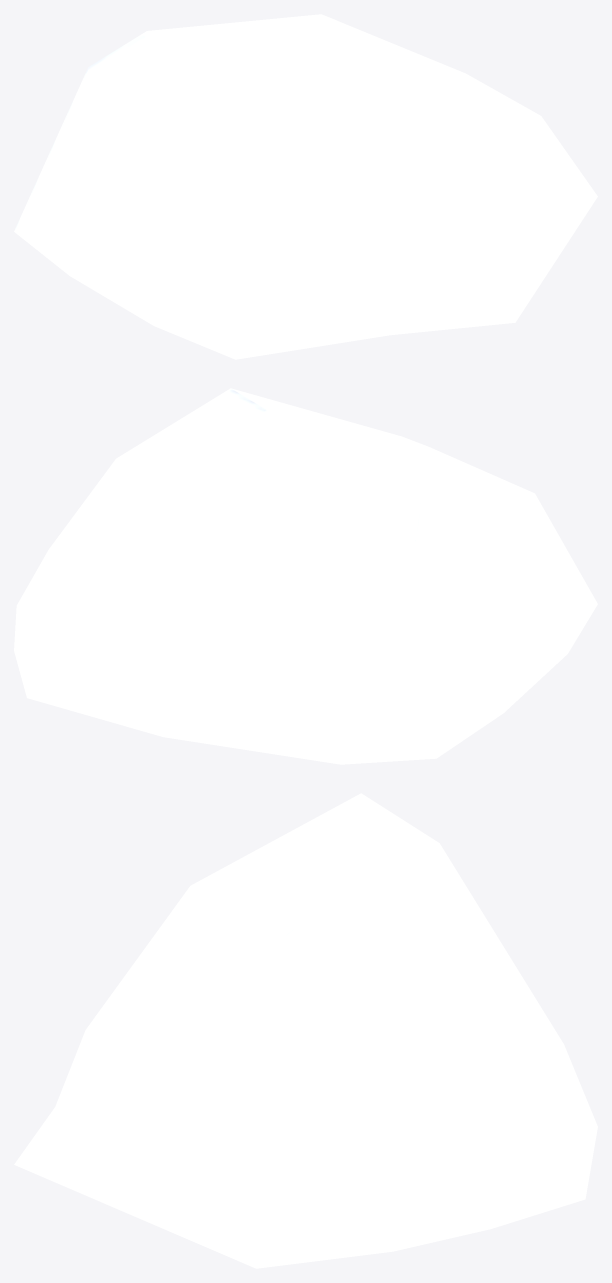
Rendered from LowPolyRock_5.FBX.
3 renders of one model, top to bottom at view 1: azimuth 30°, elevation 25°; view 2: azimuth 150°, elevation 25°; view 3: azimuth 270°, elevation 25°, orthographic. The views are drawn at different scales.
Visible parts, largest first — view 1: Rock_01; view 2: Rock_01; view 3: Rock_01.
Part boxes in pixels (box(x1,y1,x2,y2)): Rock_01: box(14, 14, 597, 359); Rock_01: box(14, 388, 597, 764); Rock_01: box(14, 793, 597, 1268).
Size of the model in its own units: 5.84 by 2.68 by 5.55.
1 material, 1 textured.
